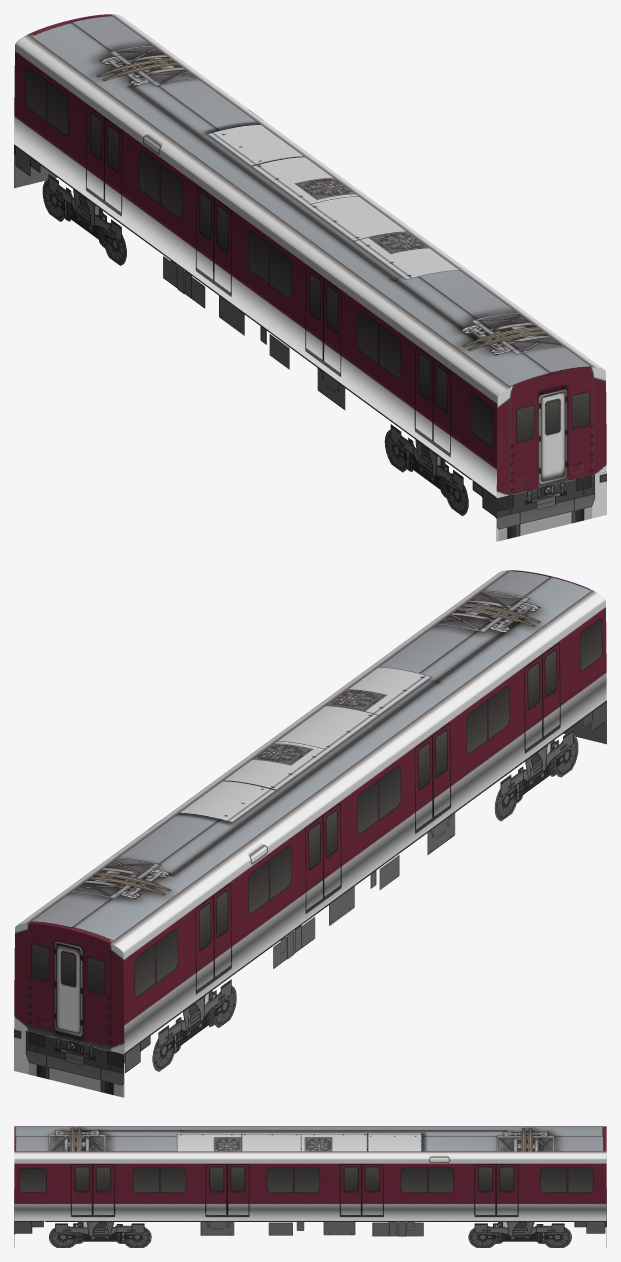
File: car2.glb
The picture shows the model from 3 angles, top to bottom: view 1: azimuth 30°, elevation 25°; view 2: azimuth 150°, elevation 25°; view 3: azimuth 270°, elevation 25°; orthographic projection. The views are drawn at different scales.
Parts seen in each view (by area): view 1: kintetsu-8400-car2; view 2: kintetsu-8400-car2; view 3: kintetsu-8400-car2.
Part boxes in pixels (x1,y1,x2,y2): kintetsu-8400-car2: (14,14,606,541); kintetsu-8400-car2: (14,570,606,1097); kintetsu-8400-car2: (14,1126,606,1247).
Bounding box in the file's own units: 2.8 × 3.76 × 21.32.
8 materials, 7 textured.
